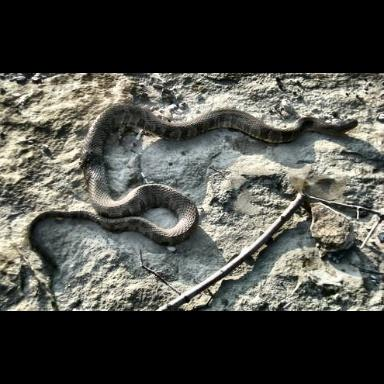snake: (29, 76, 384, 306)
